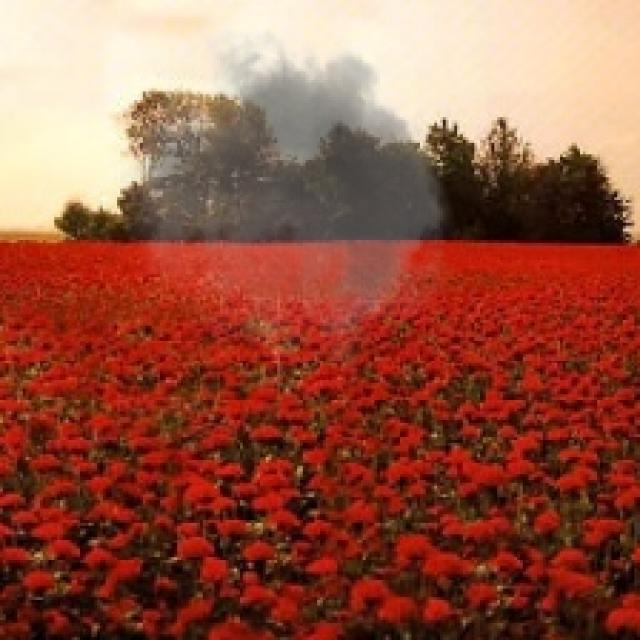Smoke: (114, 8, 466, 374)
